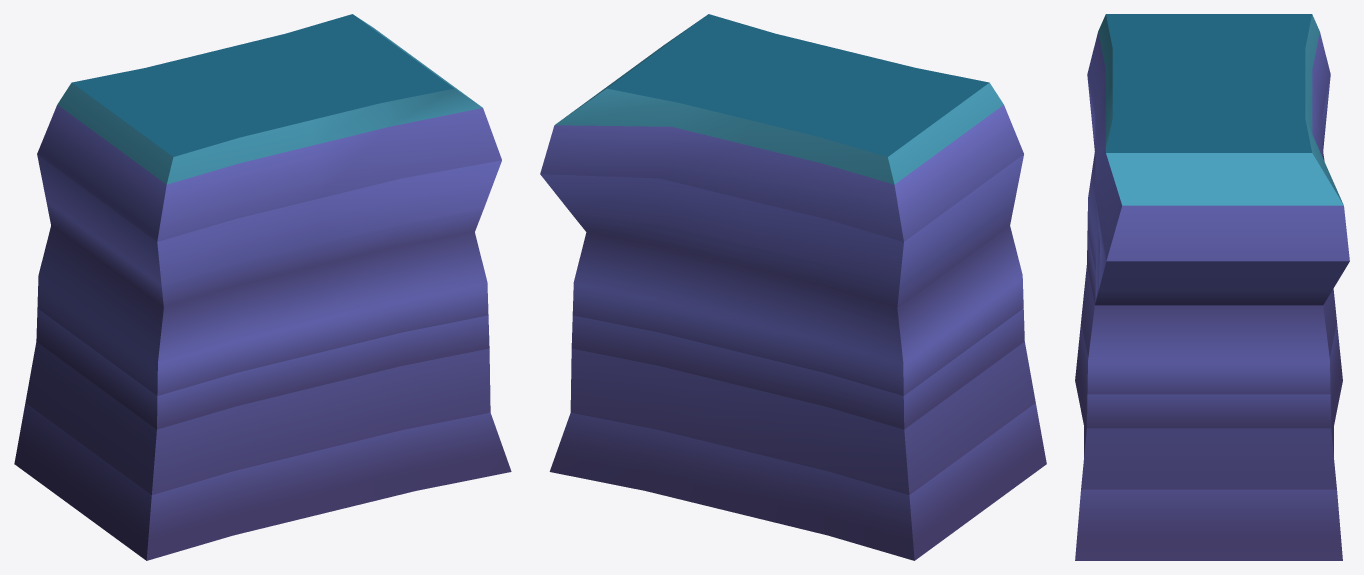
Rendered from StoneWall026.fbx.
3 renders of one model, left to right at view 1: azimuth 30°, elevation 25°; view 2: azimuth 150°, elevation 25°; view 3: azimuth 270°, elevation 25°, orthographic.
Visible parts, largest first — view 1: StoneWall026; view 2: StoneWall026; view 3: StoneWall026.
Boxes of the visible parts, box(x1,y1,x2,y2) form: StoneWall026: box(14, 14, 511, 560); StoneWall026: box(540, 14, 1046, 560); StoneWall026: box(1075, 14, 1349, 560).
Bounding box in the file's own units: 456 × 449 × 289.
